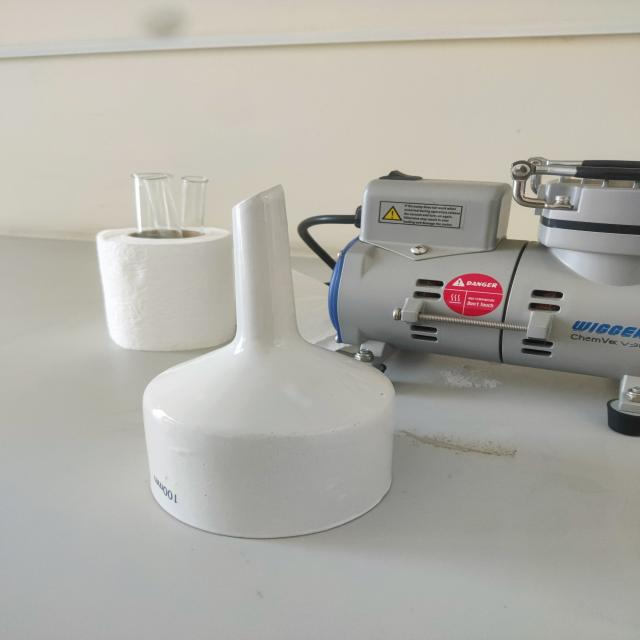Buchner_Funnel: (126, 184, 437, 568)
